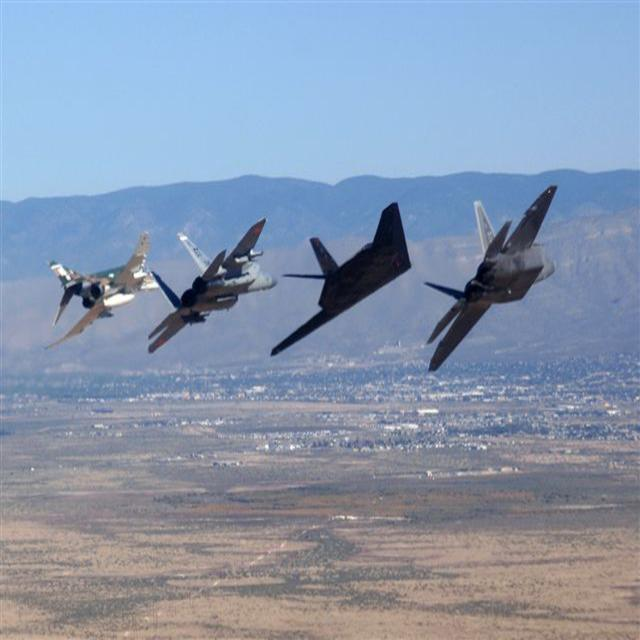MIL_Plane: (423, 185, 559, 372), (269, 201, 412, 357), (147, 216, 279, 355), (53, 228, 150, 352)
